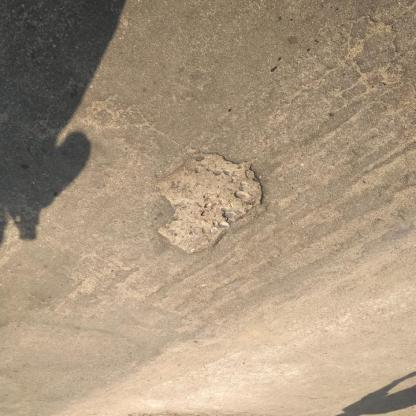pothole: (157, 152, 269, 256)
